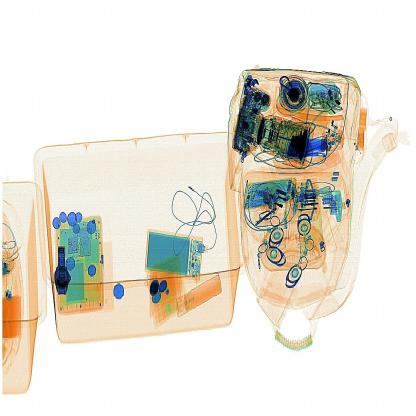knife: (287, 130, 341, 166)
